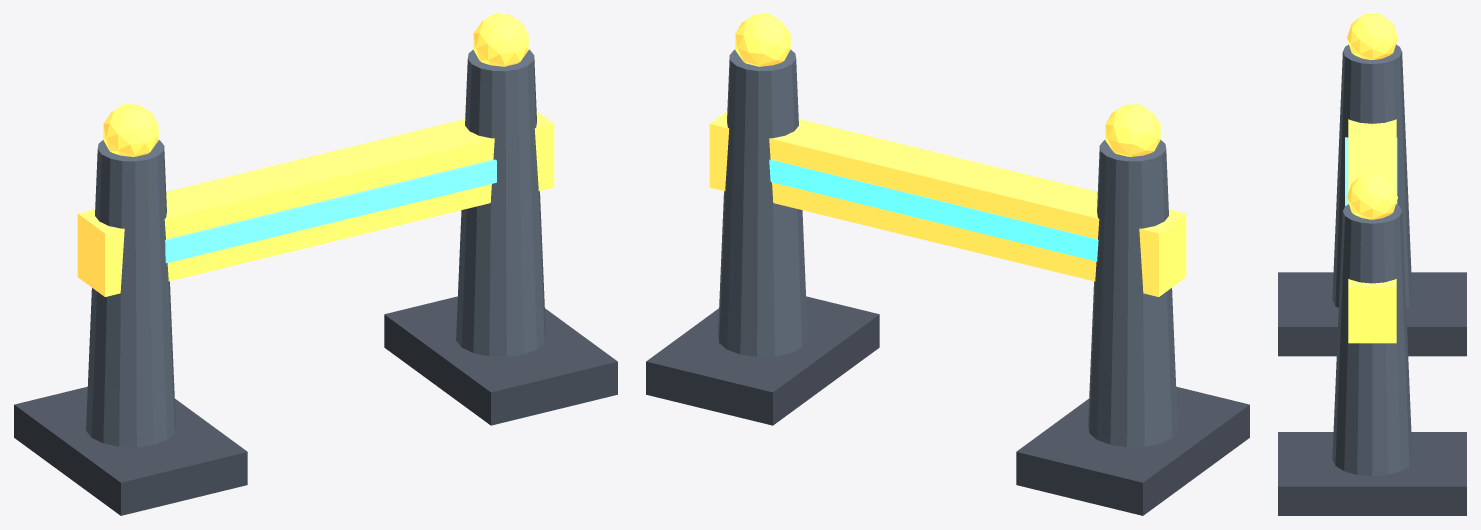
The model's file is AXM-BARRIER-001_LOD1.glb.
3 views of the same model, side by side, from view 1: azimuth 30°, elevation 25°; view 2: azimuth 150°, elevation 25°; view 3: azimuth 270°, elevation 25° (orthographic). The views are drawn at different scales.
Parts seen in each view (by area): view 1: beam, post__l00, post__l01, foot__l01, foot__l00, beam_insert, light__l00, light__l01; view 2: beam, post__l00, post__l01, foot__l01, foot__l00, beam_insert, light__l00, light__l01; view 3: post__l01, foot__l01, foot__l00, post__l00, beam, light__l01, light__l00, beam_insert.
Part boxes in pixels (x1=…): beam: x1=77, y1=111, x2=554, y2=296; post__l00: x1=86, y1=140, x2=175, y2=447; post__l01: x1=456, y1=49, x2=545, y2=356; foot__l01: x1=384, y1=296, x2=617, y2=425; foot__l00: x1=14, y1=386, x2=247, y2=515; beam_insert: x1=165, y1=159, x2=496, y2=263; light__l00: x1=103, y1=104, x2=158, y2=156; light__l01: x1=473, y1=14, x2=528, y2=66; beam: x1=709, y1=111, x2=1186, y2=296; post__l00: x1=1088, y1=140, x2=1177, y2=447; post__l01: x1=718, y1=49, x2=807, y2=356; foot__l01: x1=646, y1=296, x2=879, y2=425; foot__l00: x1=1016, y1=386, x2=1249, y2=515; beam_insert: x1=769, y1=159, x2=1098, y2=261; light__l00: x1=1105, y1=104, x2=1160, y2=156; light__l01: x1=735, y1=14, x2=790, y2=66; post__l01: x1=1332, y1=204, x2=1412, y2=476; foot__l01: x1=1278, y1=432, x2=1466, y2=515; foot__l00: x1=1278, y1=272, x2=1466, y2=356; post__l00: x1=1332, y1=44, x2=1412, y2=307; beam: x1=1348, y1=119, x2=1396, y2=343; light__l01: x1=1347, y1=173, x2=1397, y2=219; light__l00: x1=1347, y1=14, x2=1397, y2=59; beam_insert: x1=1345, y1=137, x2=1397, y2=205.
Bounding box in the file's own units: 1.88 × 1.28 × 0.7.
